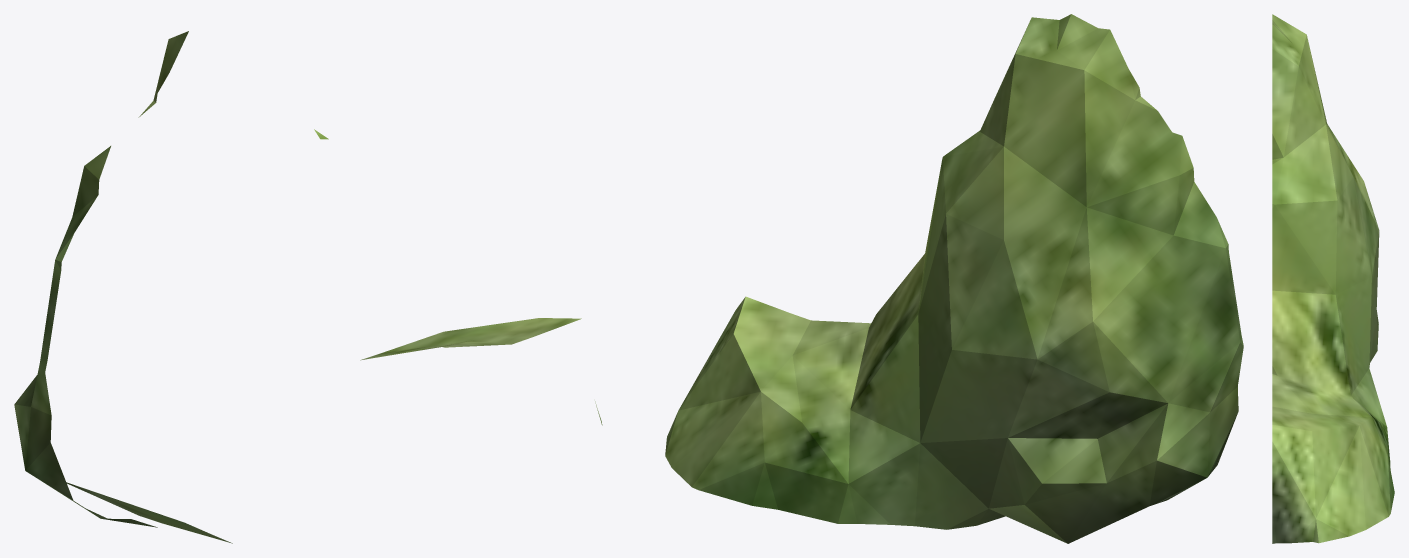
The picture shows the model from 3 angles, left to right: view 1: azimuth 30°, elevation 25°; view 2: azimuth 150°, elevation 25°; view 3: azimuth 270°, elevation 25°; orthographic projection. The views are drawn at different scales.
Bounding box in the file's own units: 8.25 × 7.07 × 2.07.
1 material, 1 textured.
